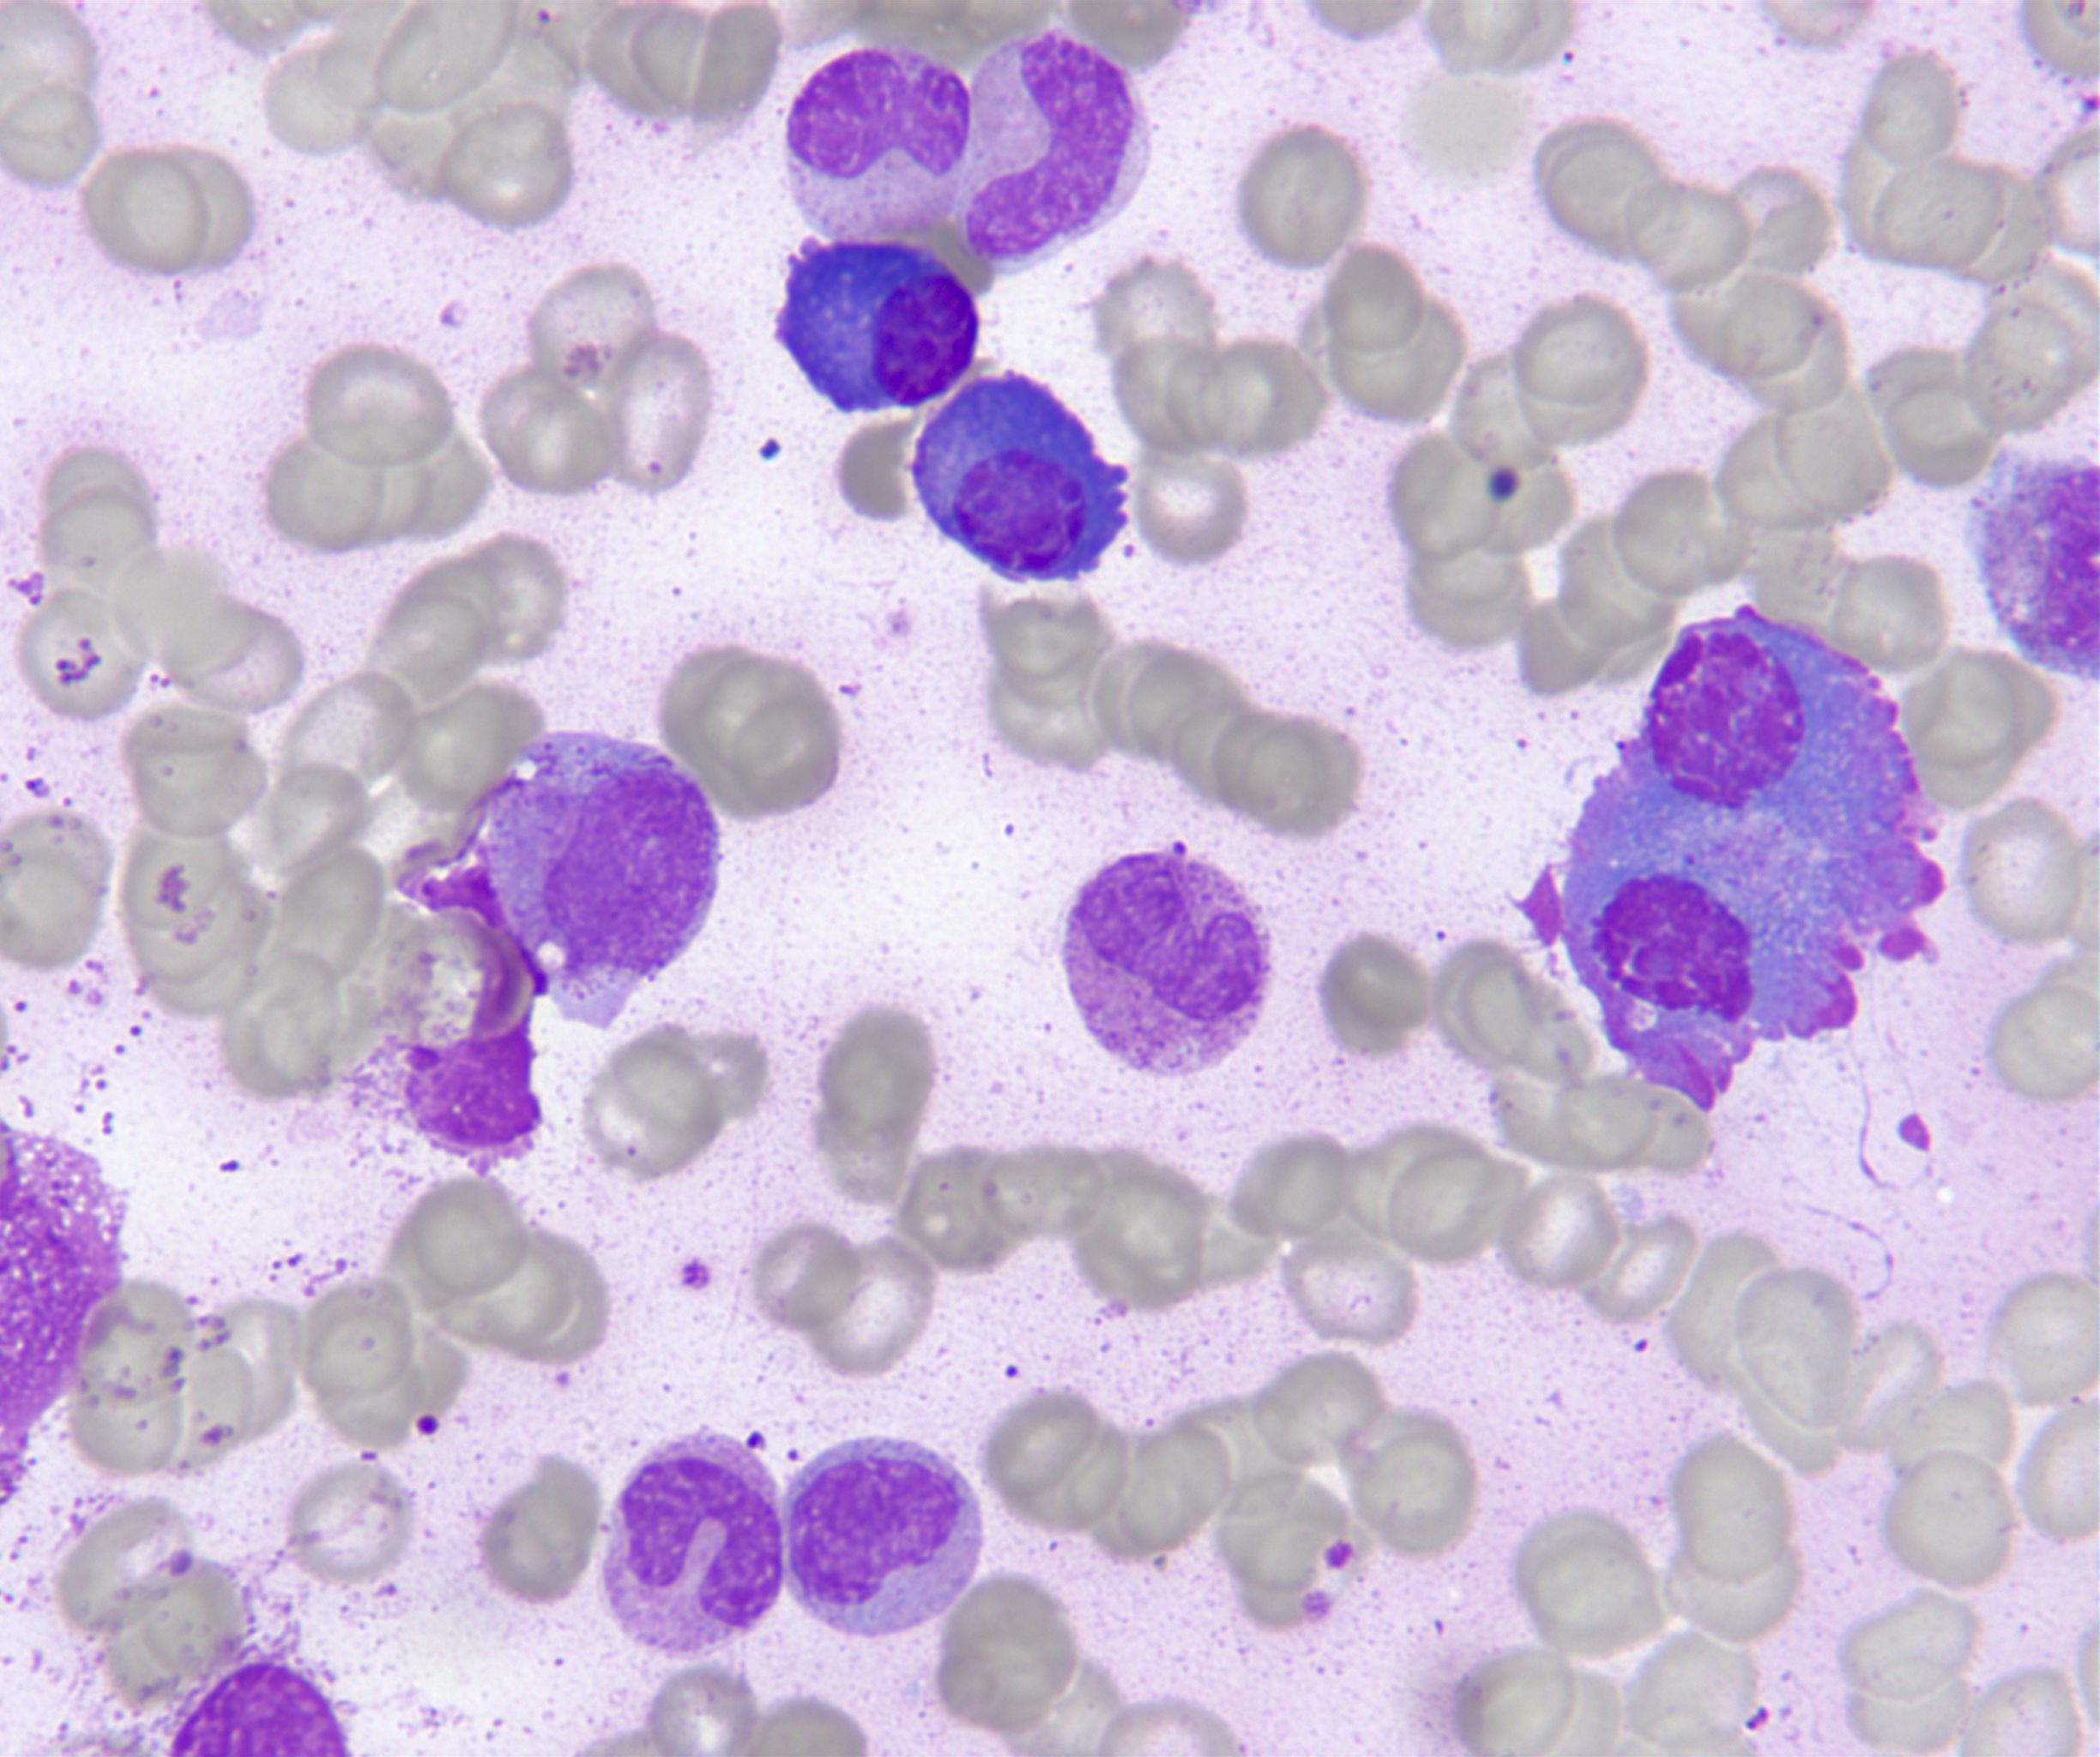3: (487, 735, 717, 1031)
4: (952, 30, 1149, 272), (785, 1439, 982, 1635), (787, 47, 970, 239)
5: (1062, 850, 1268, 1077), (600, 1431, 783, 1658)
52: (910, 372, 1127, 583), (774, 234, 978, 414)
x: (1521, 604, 1945, 1108), (1960, 447, 2100, 687)
